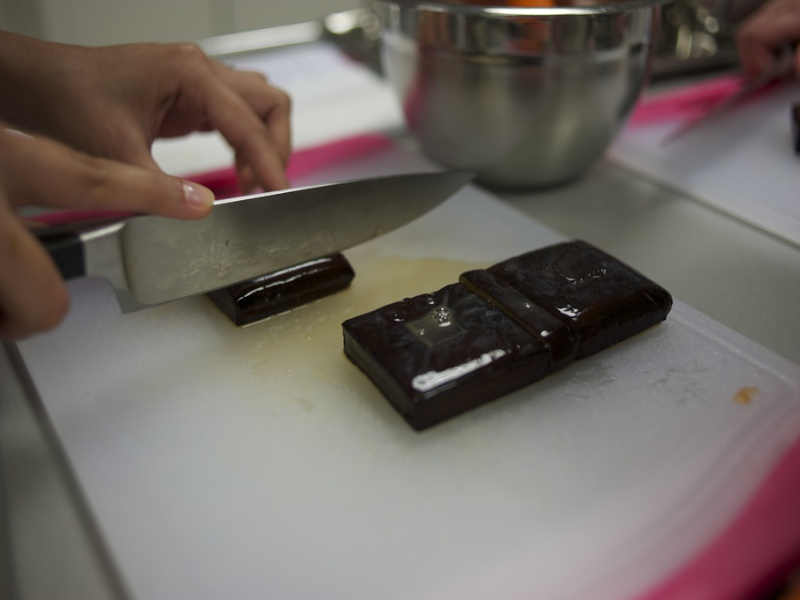knife: (34, 169, 474, 317)
